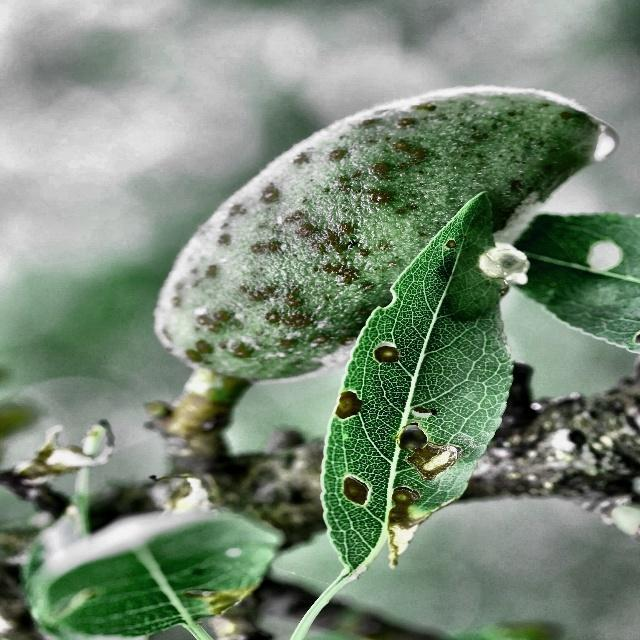leaf_spot: (321, 181, 548, 612)
